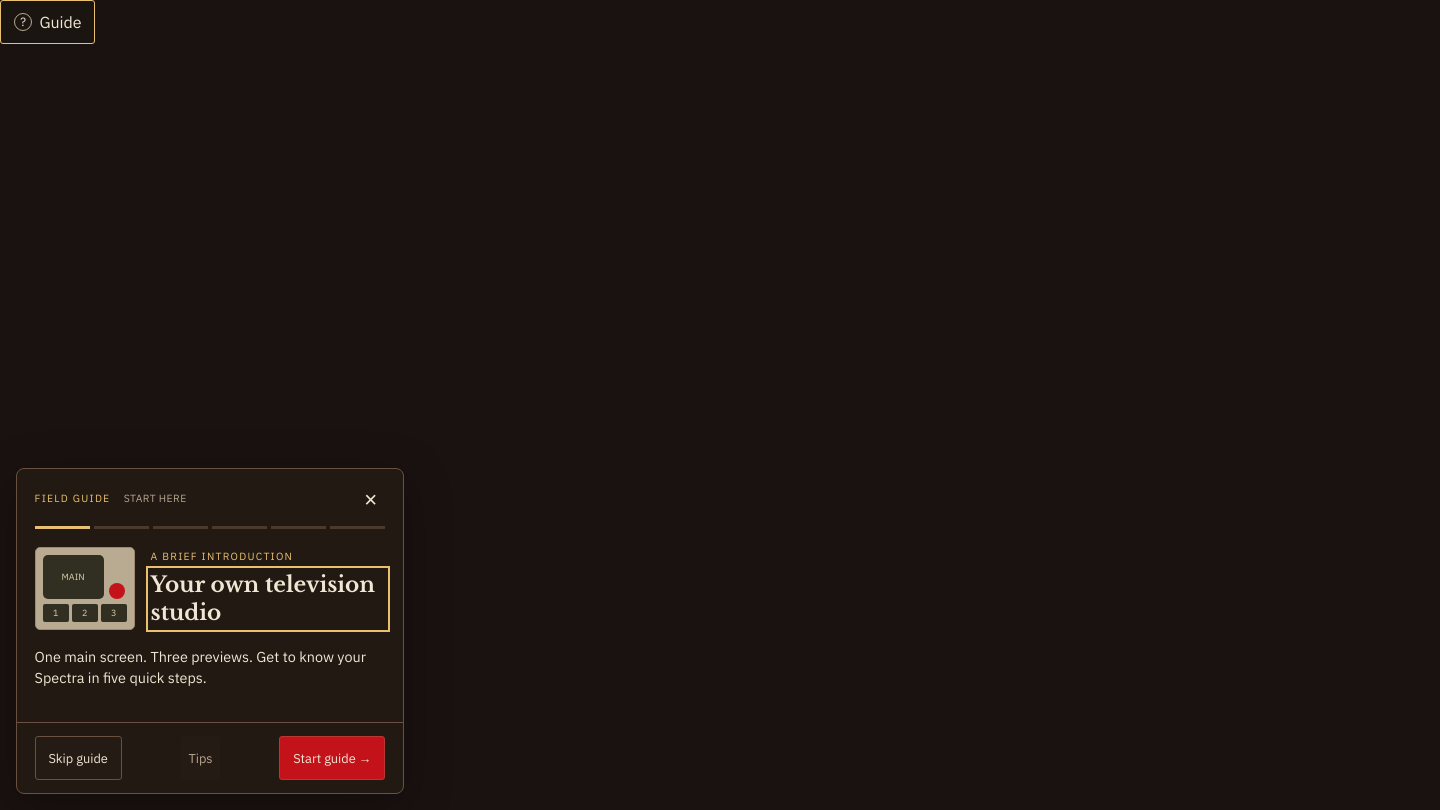
Test case: Spectra field guide › keeps demonstrations unavailable until the main screen can display them
Click the button "Start guide →".
click(332, 758)  # box [279,736,385,780]
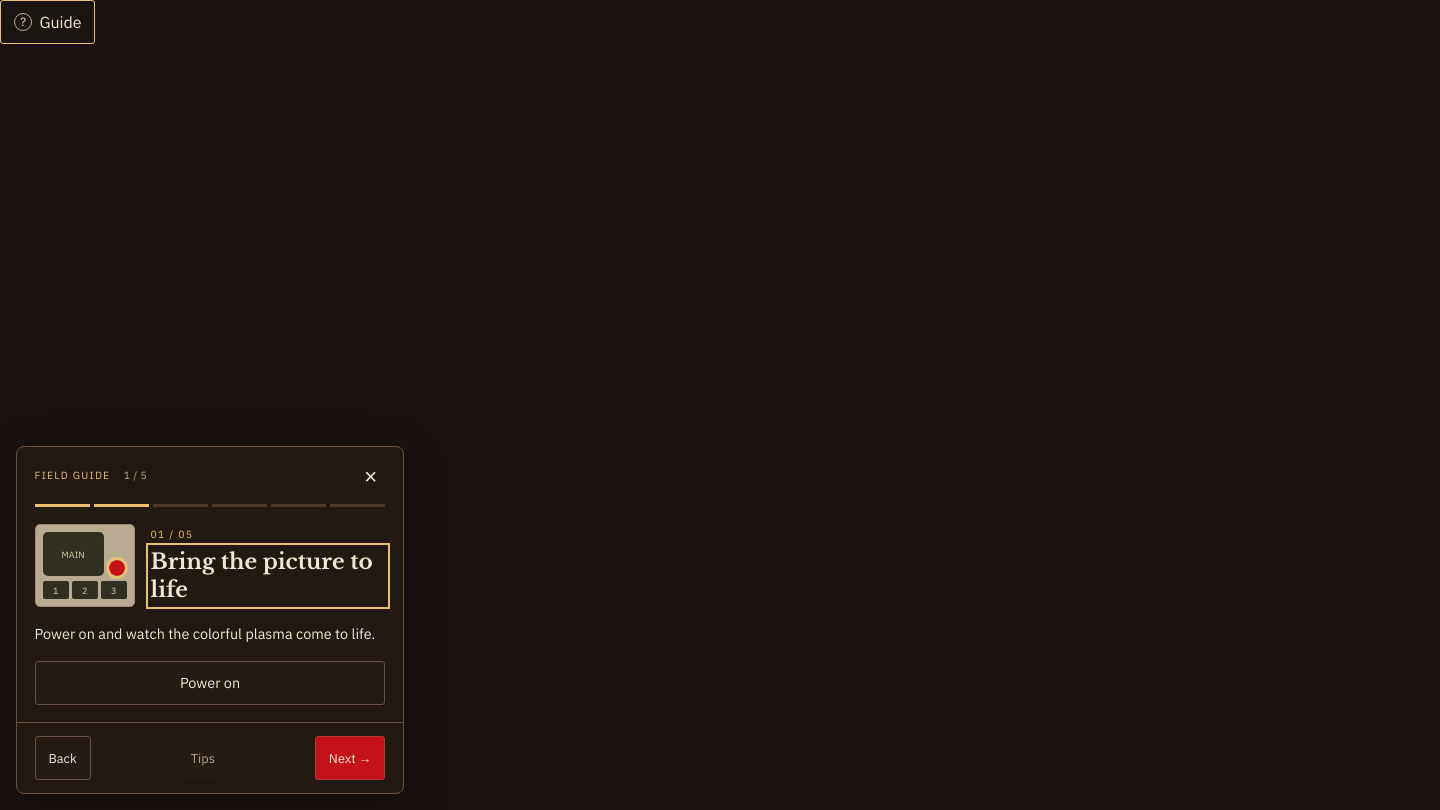
Click the button "Next →".
click(350, 758)  # box [315,736,385,780]
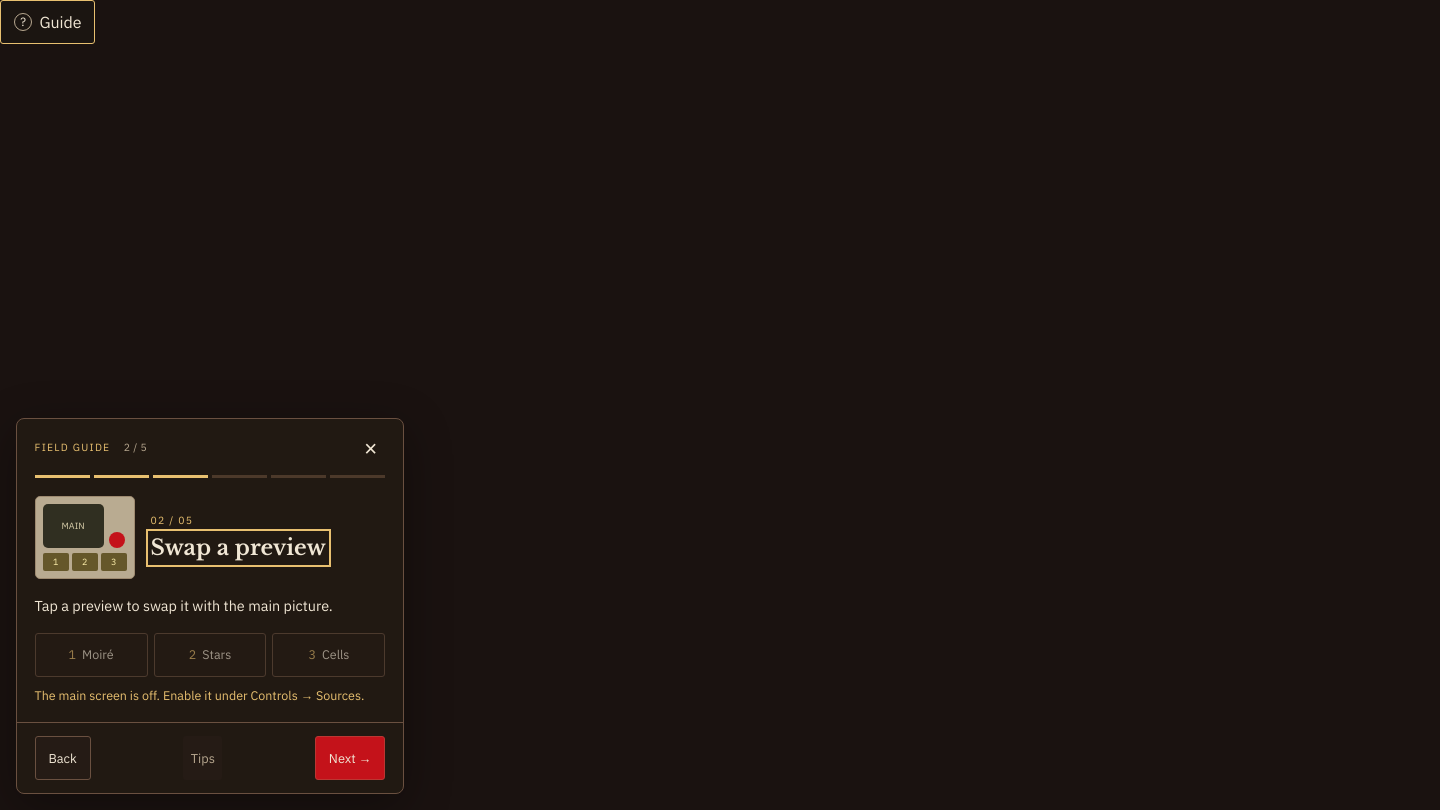
Check: the button with aria-label "Try preview 1" is disabled, box [35,632,148,676]
Check: the text "The main screen is off. Enable it under Controls → Sources." is shown, box [35,686,385,705]
